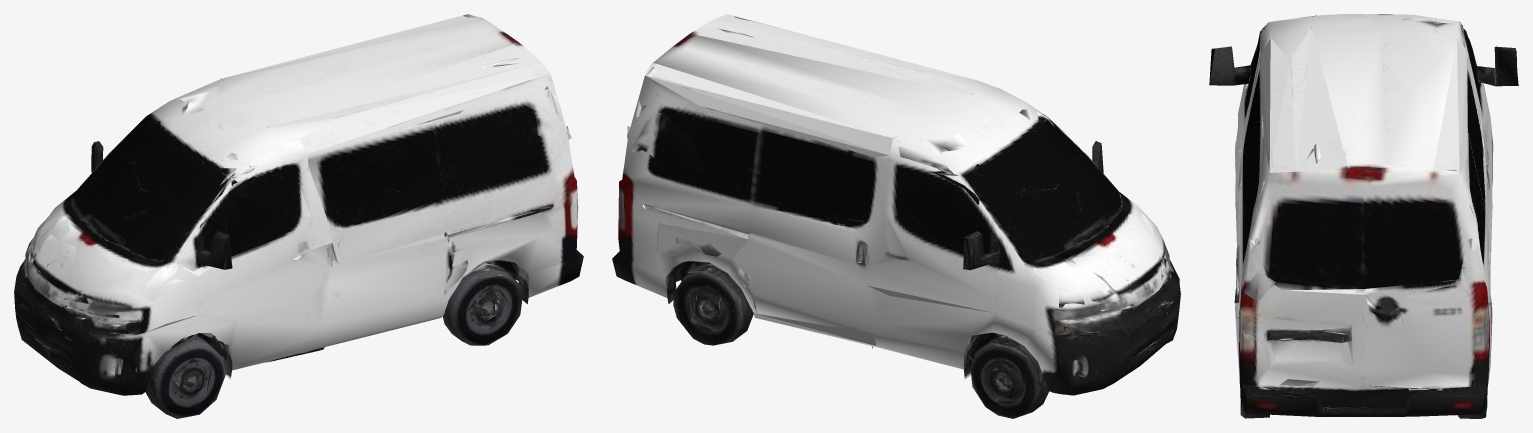
The model's file is parked_delivery_van_01.glb.
The picture shows the model from 3 angles, left to right: view 1: azimuth 30°, elevation 25°; view 2: azimuth 150°, elevation 25°; view 3: azimuth 270°, elevation 25°; orthographic projection. The views are drawn at different scales.
Parts seen in each view (by area): view 1: output_unwrapped; view 2: output_unwrapped; view 3: output_unwrapped.
Boxes of the visible parts, x1,y1,x2,y2 form: output_unwrapped: (14, 14, 583, 418); output_unwrapped: (612, 14, 1180, 418); output_unwrapped: (1209, 14, 1518, 418).
Size of the model in its own units: 1.9 by 0.9149 by 0.8871.
1 material, 1 textured.
